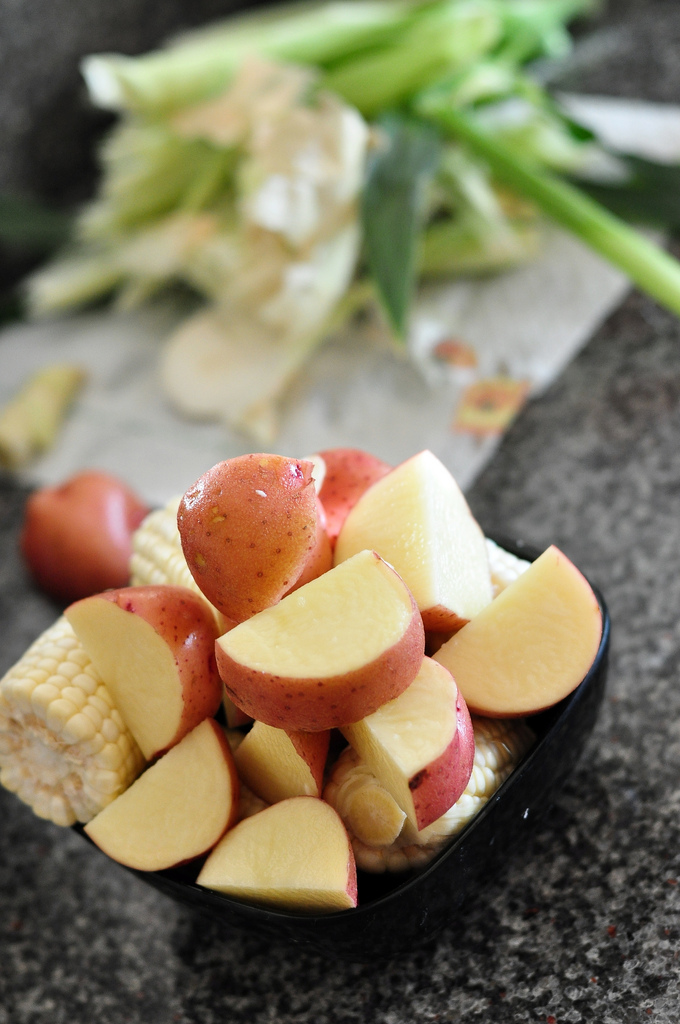boiled potatoes: (212, 502, 453, 699)
